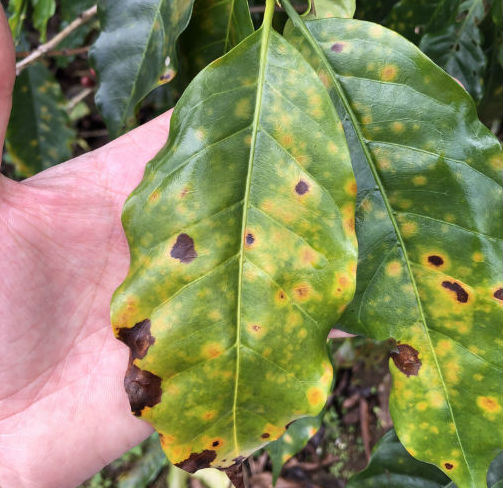unhealthy: (135, 49, 369, 452)
